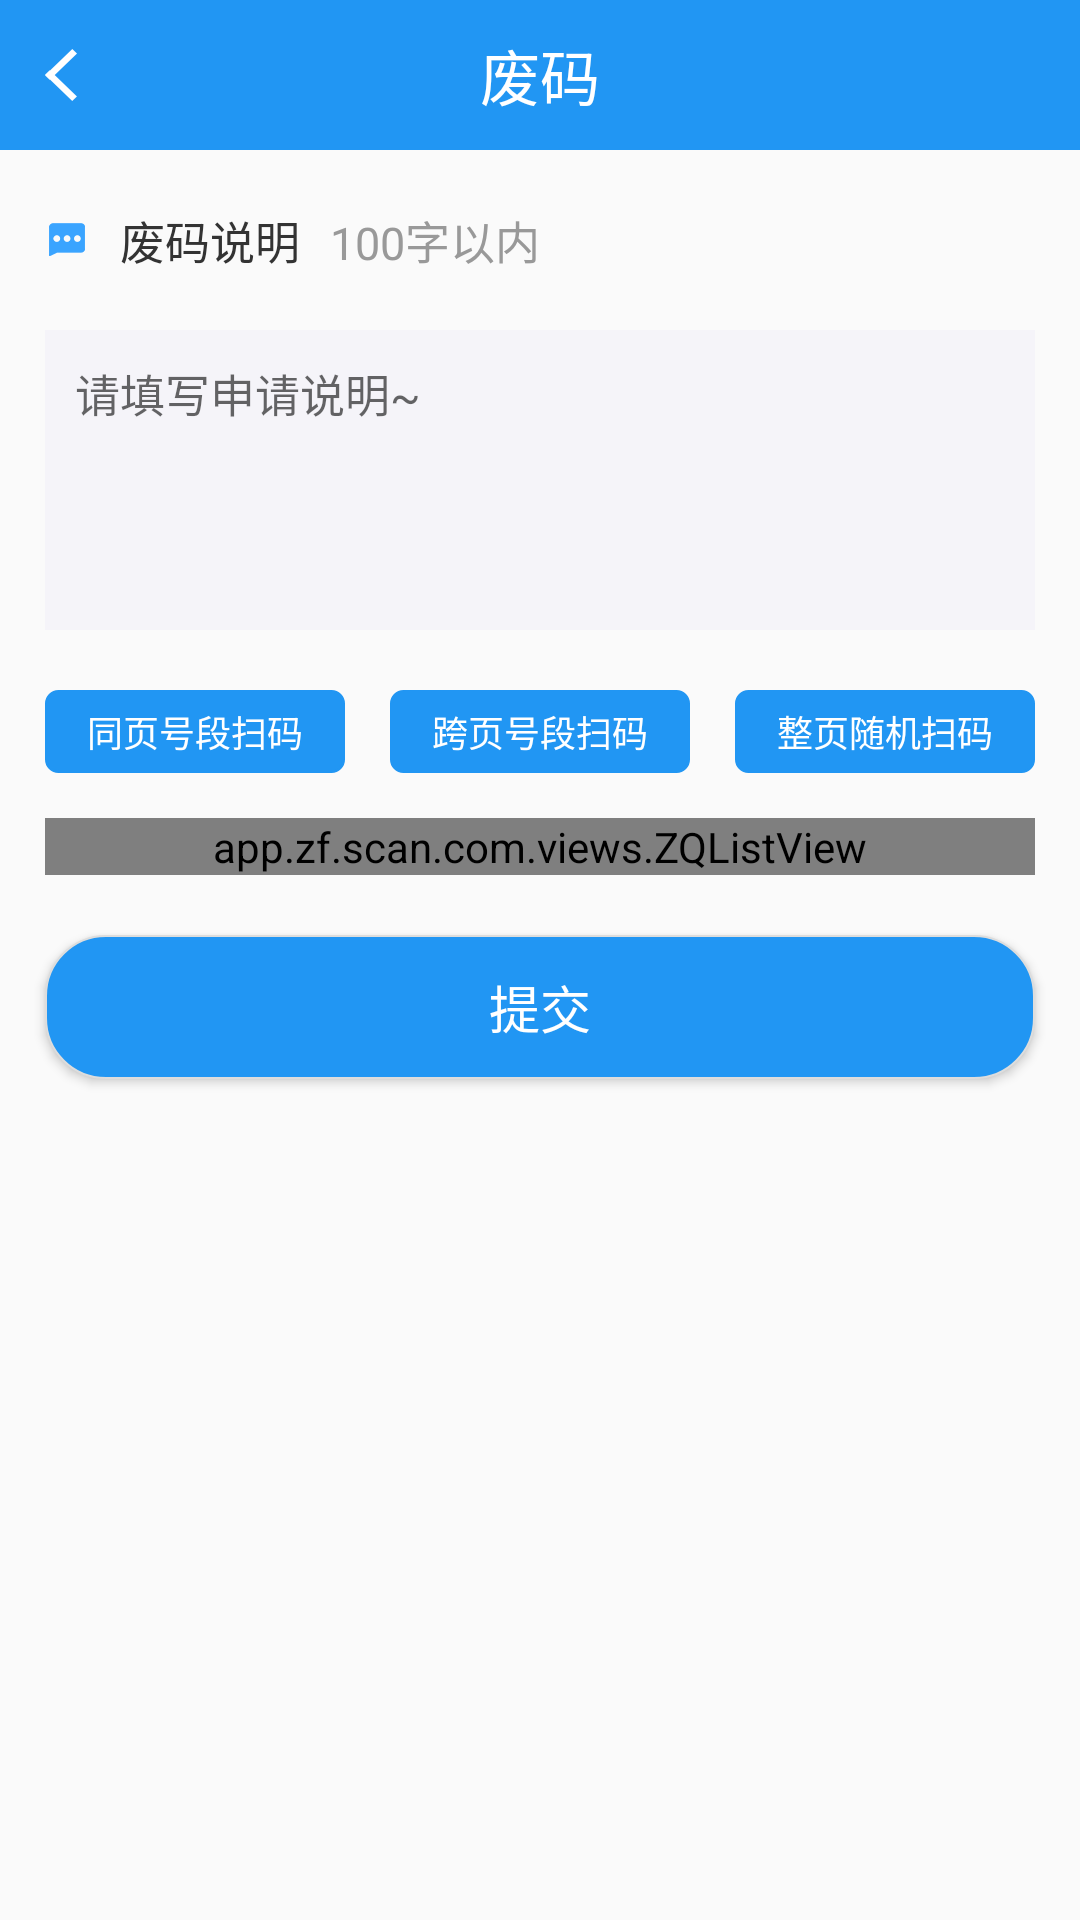

Point at icon controls on the screen. Image size 1080×1920, points as [x,y].
return: [61,75]
